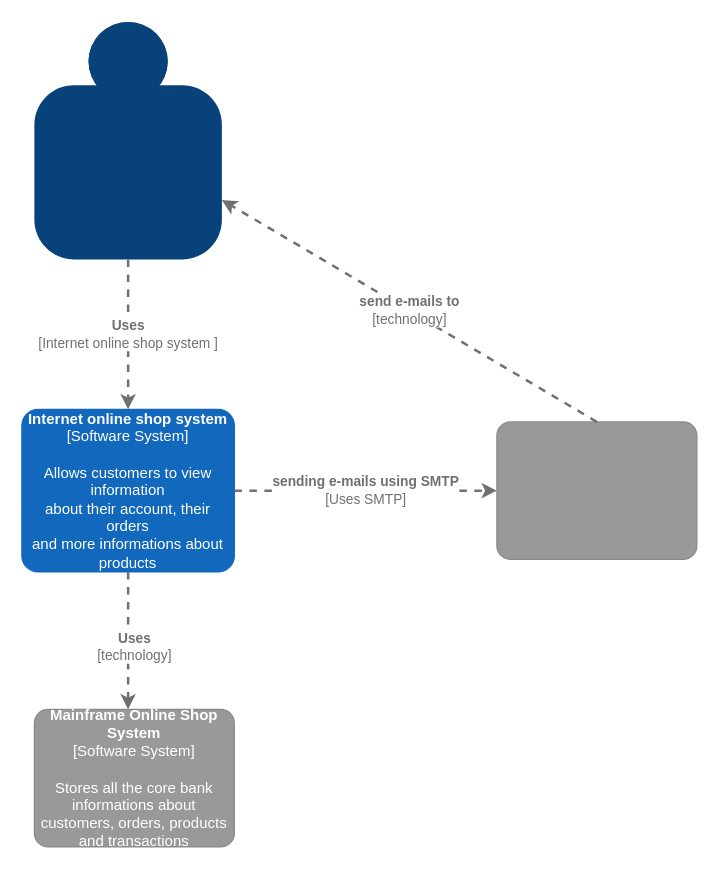
Some shapes in this 719 by 871 pixel diagram are drawn without their labels. The shapes that lost their labels are listed below. From the top down, each one's centre as x and y in pixels, then its label:
At [127,140]: "Customer [Person] customer of online shop with personal account".
At [596,490]: "E-mail system [Software System] the internal e-mail system".
